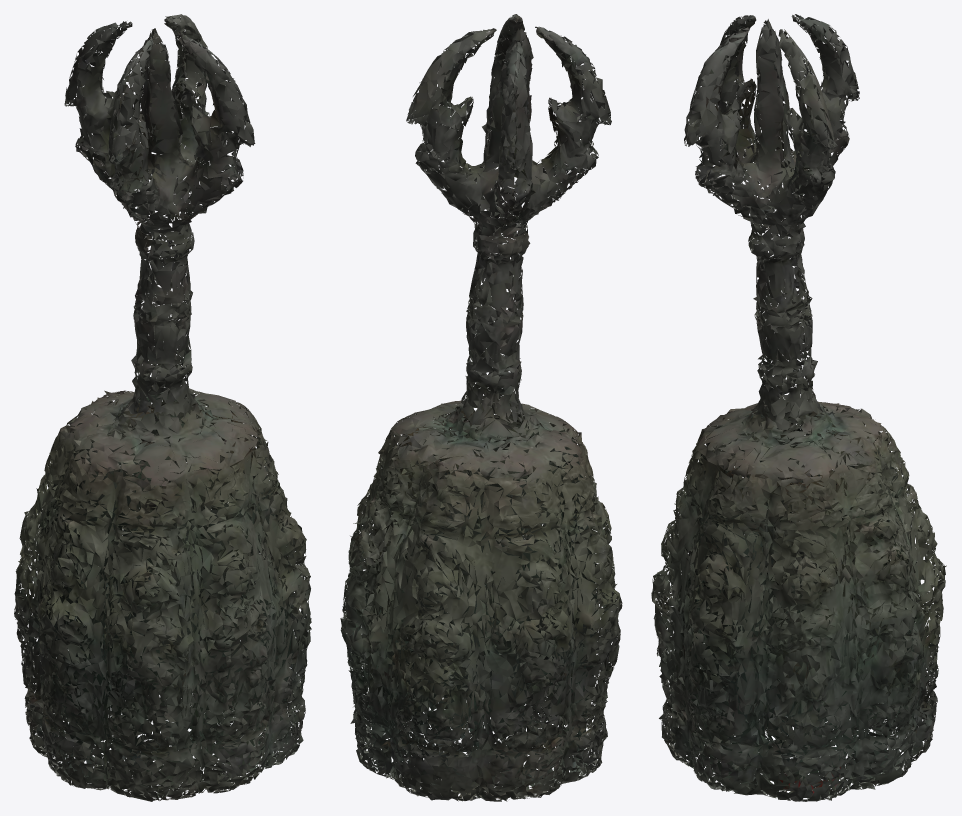
File: bell.glb
3 views of the same model, side by side, from view 1: azimuth 30°, elevation 25°; view 2: azimuth 150°, elevation 25°; view 3: azimuth 270°, elevation 25° (orthographic). The views are drawn at different scales.
Parts seen in each view (by area): view 1: Object_2; view 2: Object_2; view 3: Object_2.
Boxes of the visible parts, x1,y1,x2,y2 form: Object_2: (14,14,311,801); Object_2: (340,14,622,801); Object_2: (651,14,946,801).
Bounding box in the file's own units: 0.0659 × 0.178 × 0.0659.
Materials: 1 (1 with a texture image).
